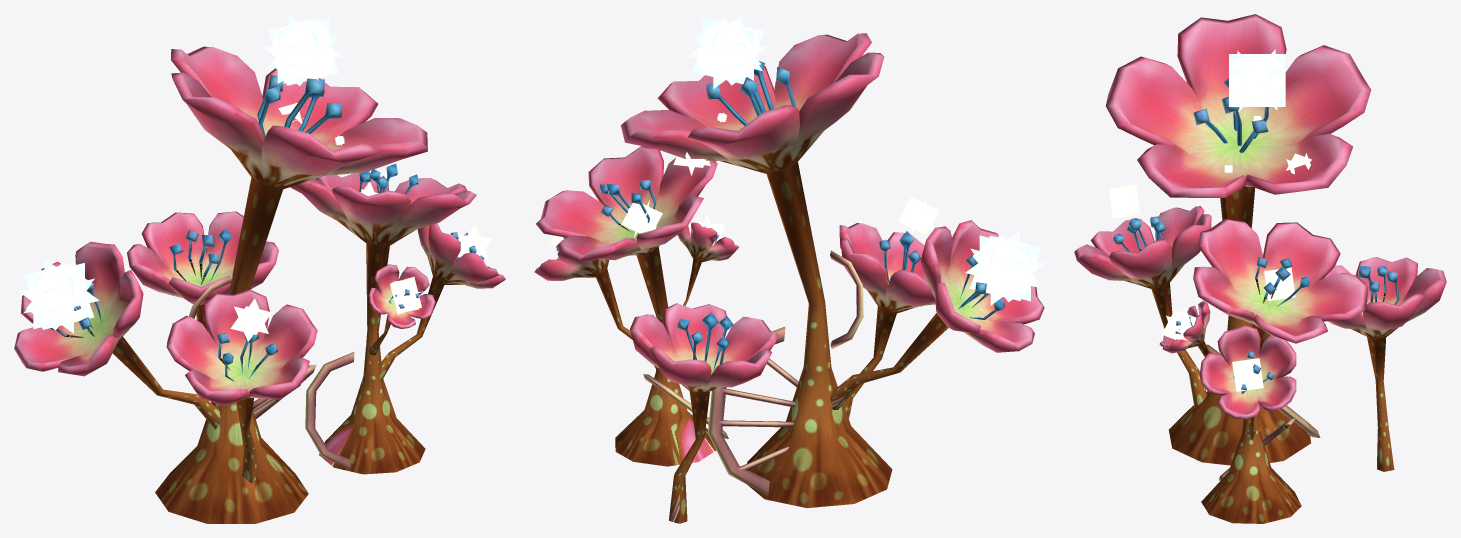
The model's file is n_SWFgogra03a.glb.
3 views of the same model, side by side, from view 1: azimuth 30°, elevation 25°; view 2: azimuth 150°, elevation 25°; view 3: azimuth 270°, elevation 25° (orthographic). The views are drawn at different scales.
Visible parts, largest first — view 1: n_SWFgogra03a; view 2: n_SWFgogra03a; view 3: n_SWFgogra03a.
Part boxes in pixels (<box>): n_SWFgogra03a: <box>14,14,505,523</box>; n_SWFgogra03a: <box>534,14,1045,523</box>; n_SWFgogra03a: <box>1074,14,1446,523</box>.
Bounding box in the file's own units: 1.74 × 1.54 × 1.23.
3 materials, 3 textured.
